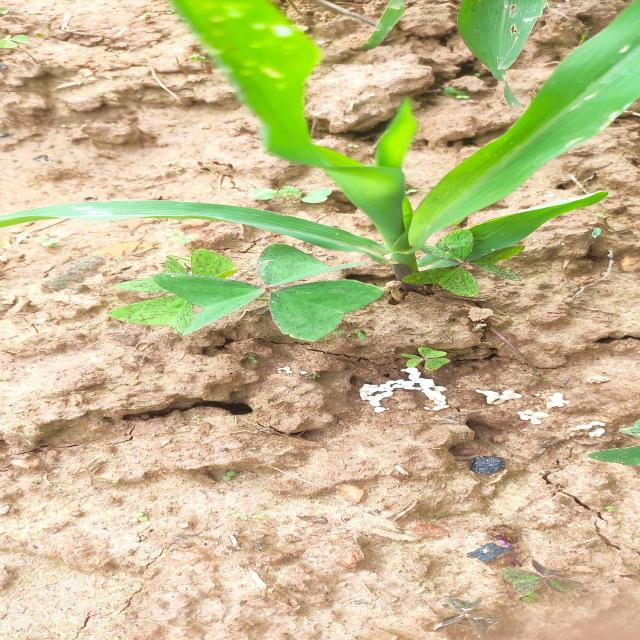maize: (156, 0, 604, 287), (108, 242, 380, 342), (475, 546, 597, 608), (228, 179, 350, 203), (390, 342, 480, 374)
